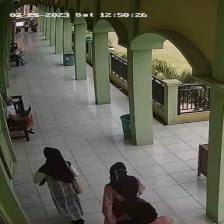HijabSyar-i: (36, 147, 78, 185)
Non Syar-i: (106, 159, 142, 202)
